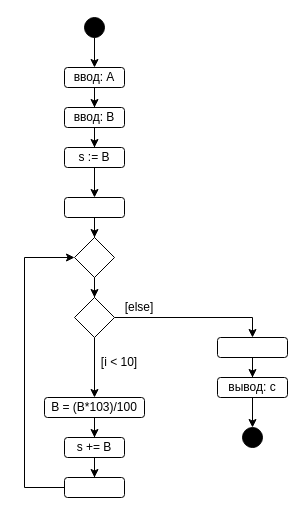
Some shapes in this 305 by 515 pixel diagram are drawn without their labels. The centre of each missing label's shape, as x and y in pixels:
"c = s - A*10" goes at point 252,347.
"i += 1" goes at point 94,487.
"i := 0" goes at point 94,207.
